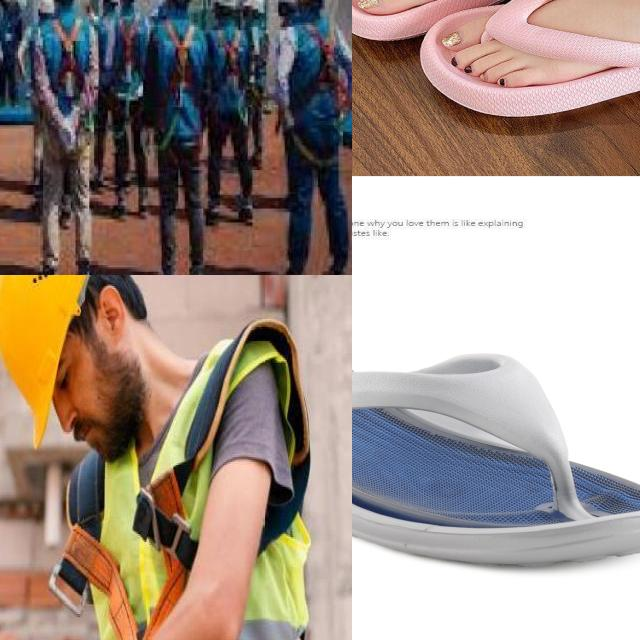Harness: (52, 317, 264, 640), (286, 17, 348, 174), (36, 12, 96, 168), (156, 13, 204, 167)
Sandals: (352, 341, 640, 568), (352, 0, 640, 139)
